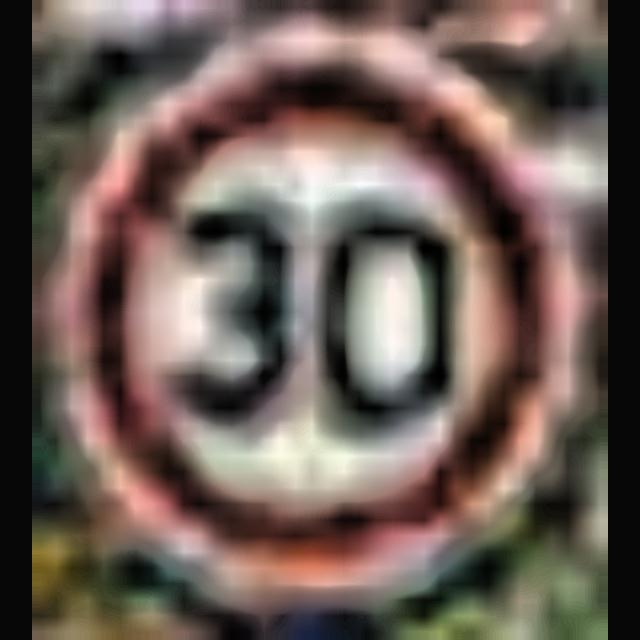speed_30: (79, 41, 569, 588)
